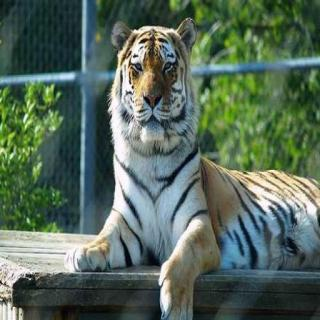Tiger: (66, 21, 320, 302)
